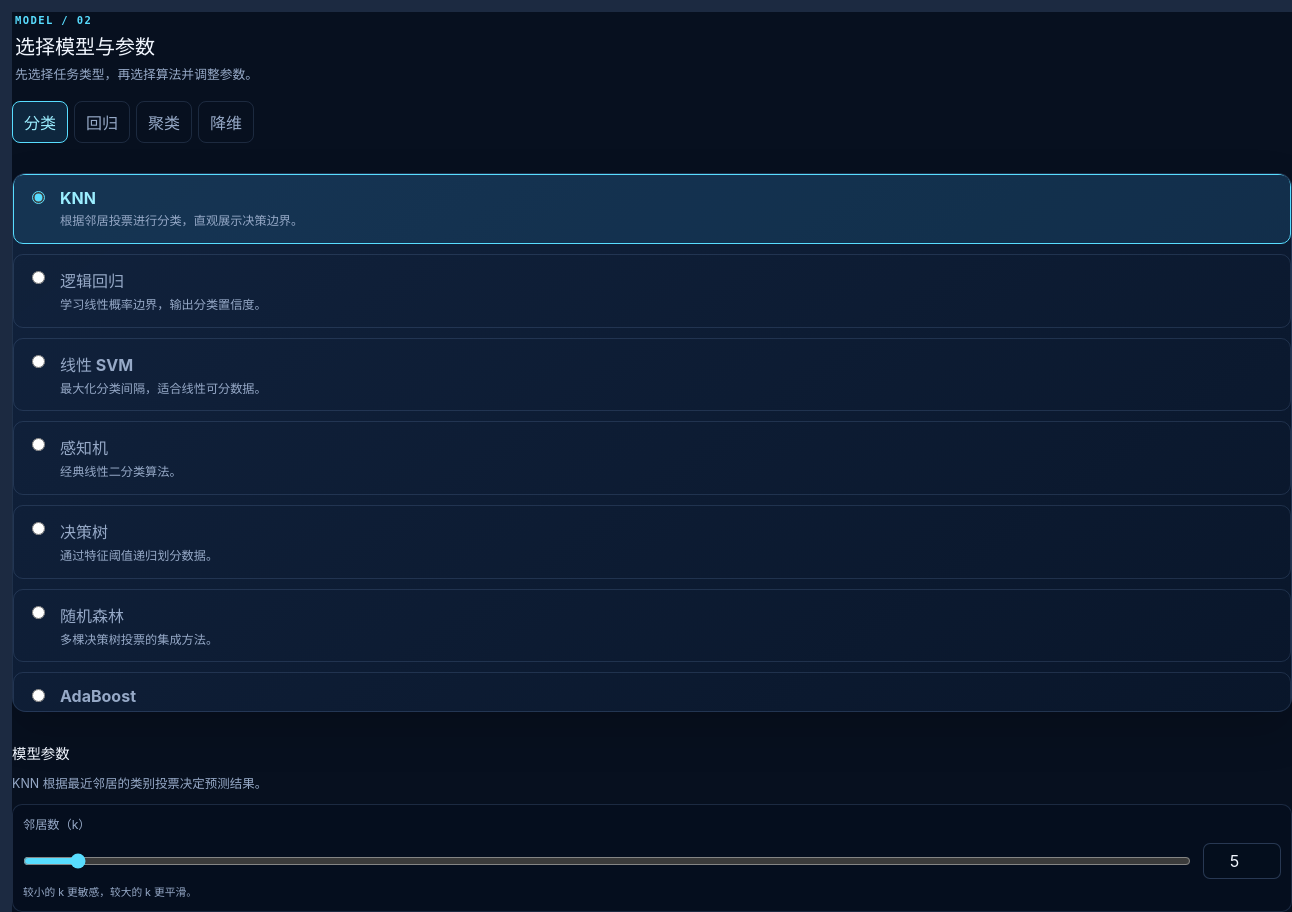
分步实验室页面 › 模型阶段按任务类型分组显示算法
What coordinates should you click on to do the following:
click the tab "聚类"
I would click on:
 (164, 122)
Its box is top-left (136, 102), bottom-right (192, 144).
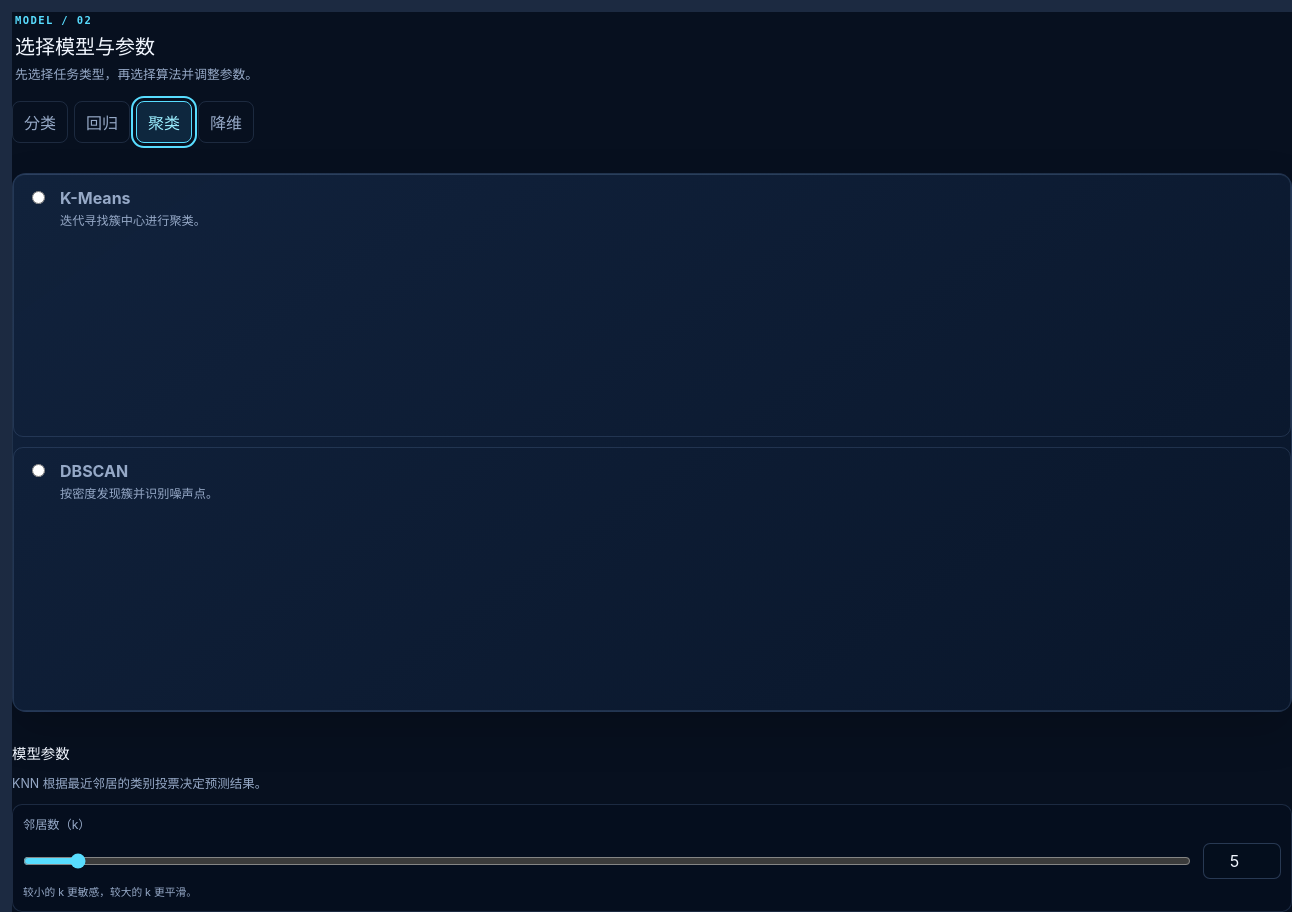
Result: the radio button labelled "K-Means" is shown at top-left (32, 192), bottom-right (45, 204)
